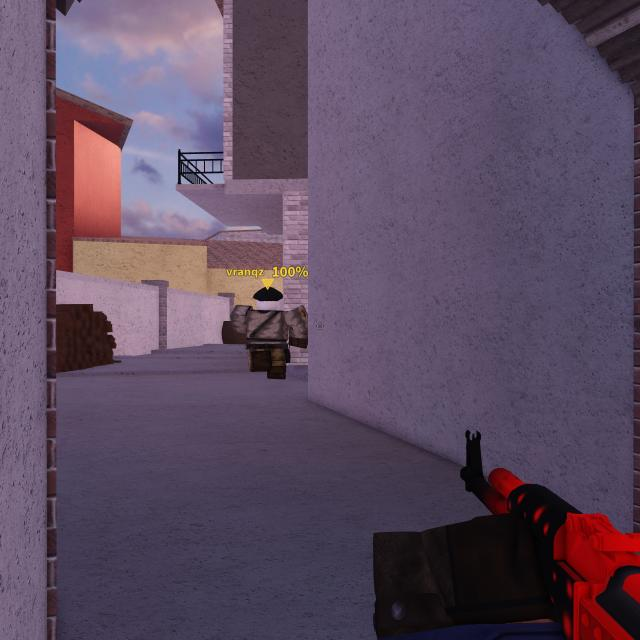Head: (254, 288, 283, 310)
Player: (230, 288, 309, 382)
